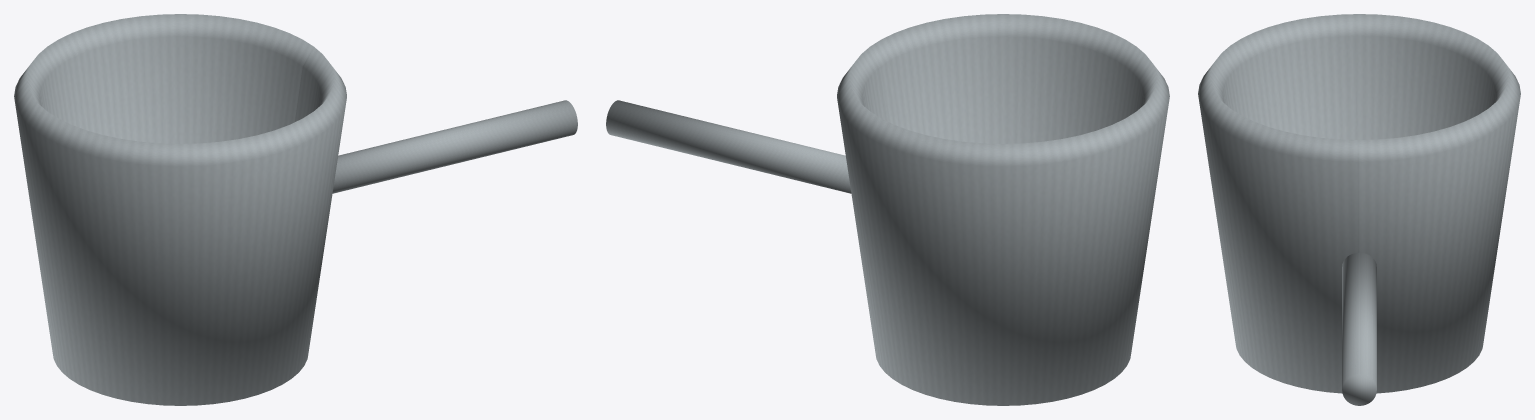
File: crucible.glb
3 renders of one model, left to right at view 1: azimuth 30°, elevation 25°; view 2: azimuth 150°, elevation 25°; view 3: azimuth 270°, elevation 25°, orthographic. The views are drawn at different scales.
Parts seen in each view (by area): view 1: pouring crucible, crucible handle; view 2: pouring crucible, crucible handle; view 3: pouring crucible, crucible handle.
Boxes of the visible parts, x1,y1,x2,y2 form: pouring crucible: [14, 14, 346, 405]; crucible handle: [332, 100, 577, 193]; pouring crucible: [837, 14, 1169, 405]; crucible handle: [606, 100, 851, 193]; pouring crucible: [1198, 14, 1520, 393]; crucible handle: [1342, 252, 1376, 405].
Bounding box in the file's own units: 0.48 × 0.235 × 0.26.
Materials: 1 (1 with a texture image).
